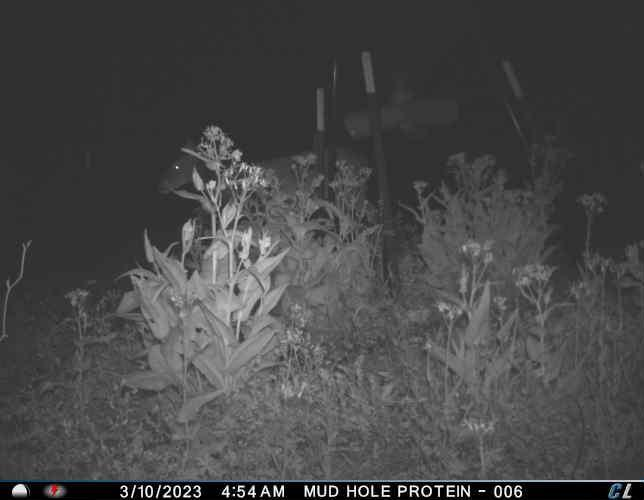Deer: (160, 140, 374, 221)
